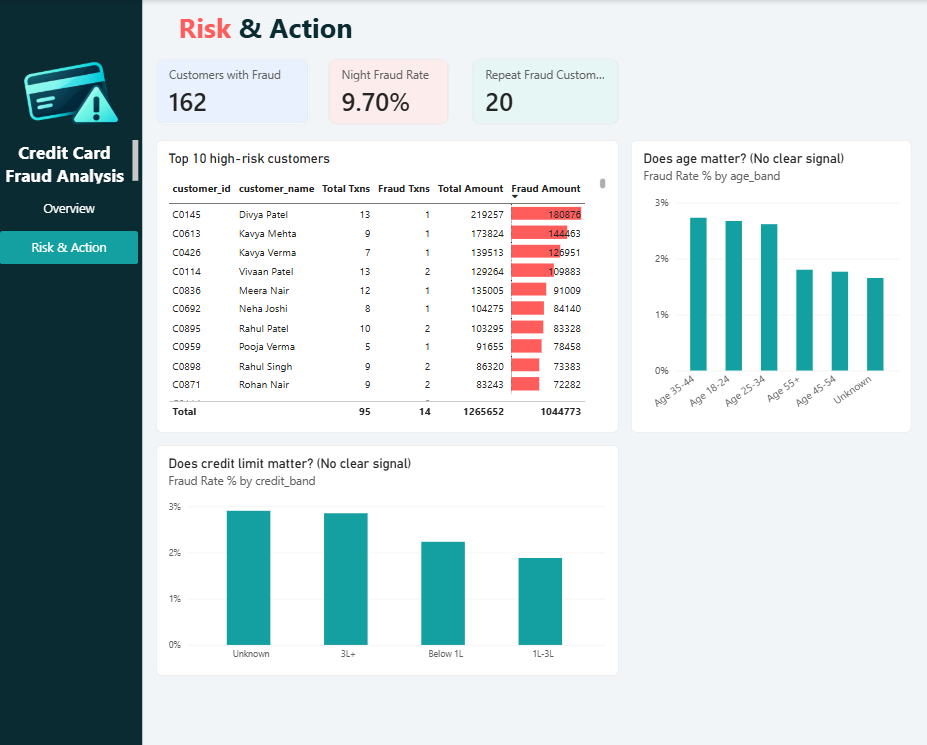

The dashboard page shown, as its layout file describes it:
{"tool":"powerbi","page":{"name":"Risk & Action","canvas":[1280,1024],"ordinal":1},"visuals":[{"type":"shape","box":[0,0,200.8,1024.3],"z":0},{"type":"textbox","box":[250,11.7,501,60.1],"z":1000},{"type":"cardVisual","fields":{"Data":["City_Geo.Customers with Fraud"]},"box":[220,80,210,90],"z":2000},{"type":"cardVisual","fields":{"Data":["City_Geo.Repeat Fraud Customers"]},"box":[653.3,80,201.7,90],"z":3000},{"type":"cardVisual","fields":{"Data":["City_Geo.Night Fraud Rate"]},"box":[456.7,80,165,90],"z":4000},{"type":"tableEx","title":"Top 10 high-risk customers","fields":{"Values":["txn.customer_id","cust.customer_name","txn.Total Txns","txn.Fraud Txns","txn.Total Amount","txn.Fraud Amount"]},"box":[220,191.7,635,401.7],"z":5000},{"type":"clusteredColumnChart","title":"Does age matter? (No clear signal)","fields":{"Category":["txn.age_band"],"Y":["txn.Fraud Rate %"]},"box":[871.7,191.7,385,401.7],"z":6000},{"type":"clusteredColumnChart","title":"Does credit limit matter? (No clear signal)","fields":{"Category":["txn.credit_band"],"Y":["txn.Fraud Rate %"]},"box":[220,610,635,316.7],"z":7000},{"type":"pageNavigator","box":[5,263.3,190,100],"z":7001},{"type":"image","box":[23.3,70,155,115],"z":7002},{"type":"textbox","box":[1.7,191.7,193.3,60],"z":7003}]}

Visuals, with their boxes on the page's 1280x1024 design canvas (x1, y1, x2, y2). These are canvas units, not pixel positions in the 927x745 screenshot, which may show the page scaled, cropped or inside an application window:
shape: x1=0 y1=0 x2=201 y2=1024
textbox: x1=250 y1=12 x2=751 y2=72
cardVisual - City_Geo.Customers with Fraud: x1=220 y1=80 x2=430 y2=170
cardVisual - City_Geo.Repeat Fraud Customers: x1=653 y1=80 x2=855 y2=170
cardVisual - City_Geo.Night Fraud Rate: x1=457 y1=80 x2=622 y2=170
"Top 10 high-risk customers" tableEx: x1=220 y1=192 x2=855 y2=593
"Does age matter? (No clear signal)" clusteredColumnChart: x1=872 y1=192 x2=1257 y2=593
"Does credit limit matter? (No clear signal)" clusteredColumnChart: x1=220 y1=610 x2=855 y2=927
pageNavigator: x1=5 y1=263 x2=195 y2=363
image: x1=23 y1=70 x2=178 y2=185
textbox: x1=2 y1=192 x2=195 y2=252
